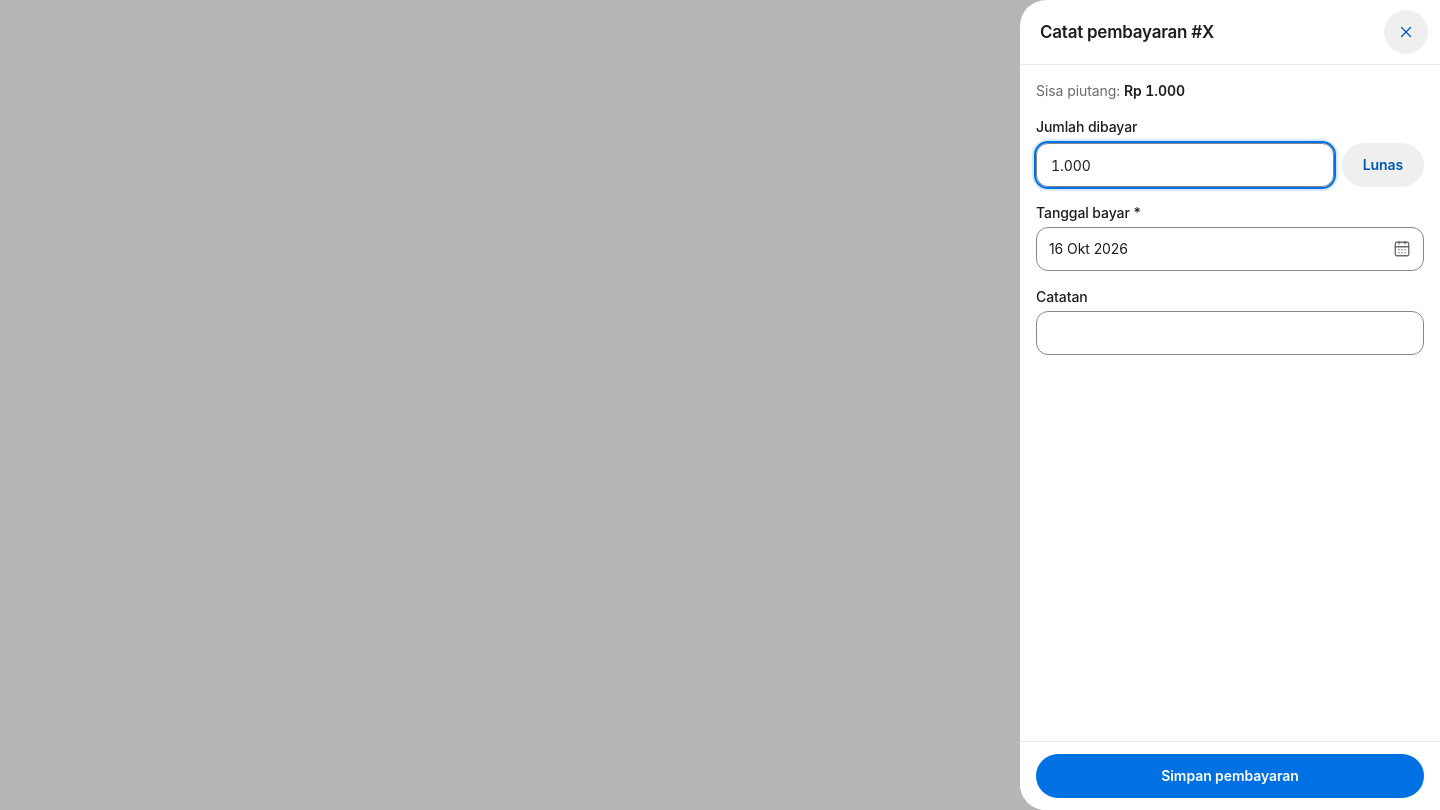
Test: CatatPembayaranSheet: one nota › shows a visible error when the write fails
Click the button "Simpan pembayaran" at (1230,776), box [1036, 754, 1424, 798]
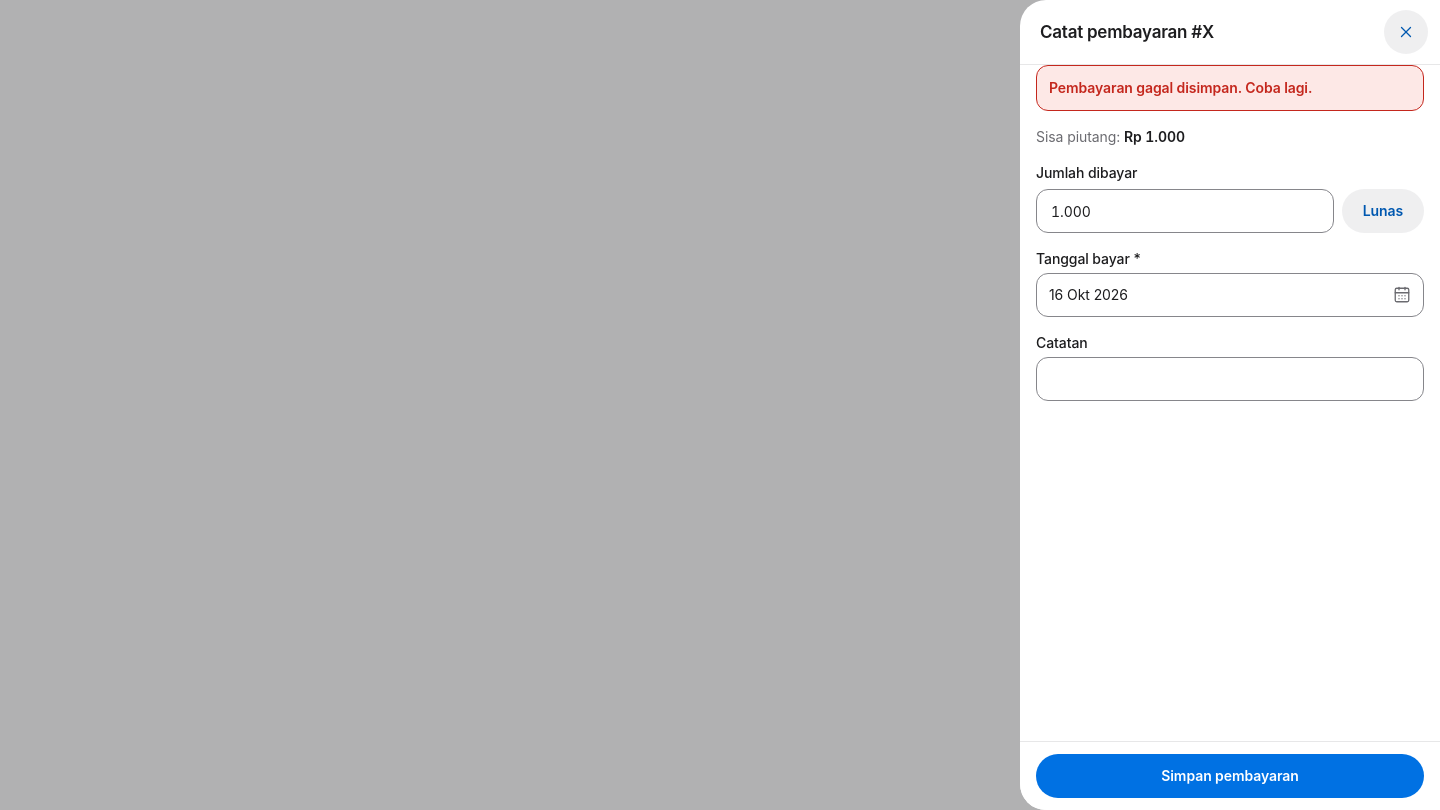
Now the message reads "Pembayaran gagal disimpan. Coba lagi.", box [1049, 79, 1312, 96]
